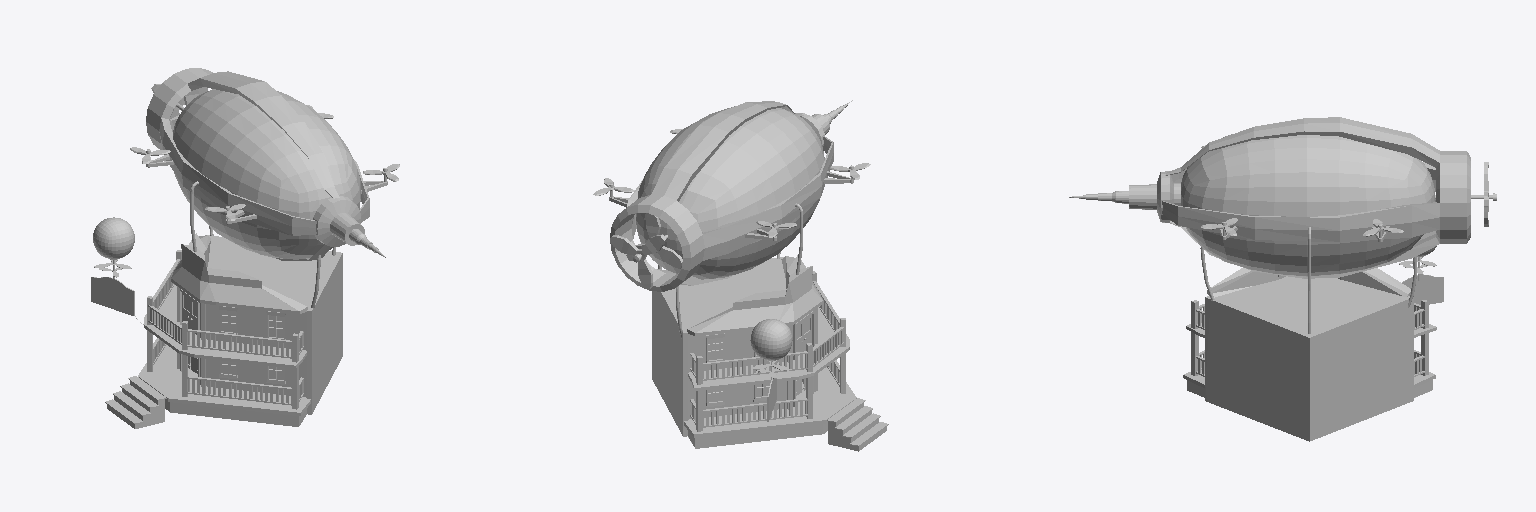
Rendered from hollowed out inside.obj.
The picture shows the model from 3 angles: view 1: azimuth 30°, elevation 25°; view 2: azimuth 150°, elevation 25°; view 3: azimuth 270°, elevation 25°; orthographic projection.
Visible parts, largest first — view 1: pPipe16; view 2: pPipe16; view 3: pPipe16.
Part boxes in pixels (x1,y1,x2,y2): pPipe16: (91, 68, 399, 428); pPipe16: (593, 100, 888, 451); pPipe16: (1069, 117, 1496, 441).
Bounding box in the file's own units: 37.65 × 43.1 × 58.56.